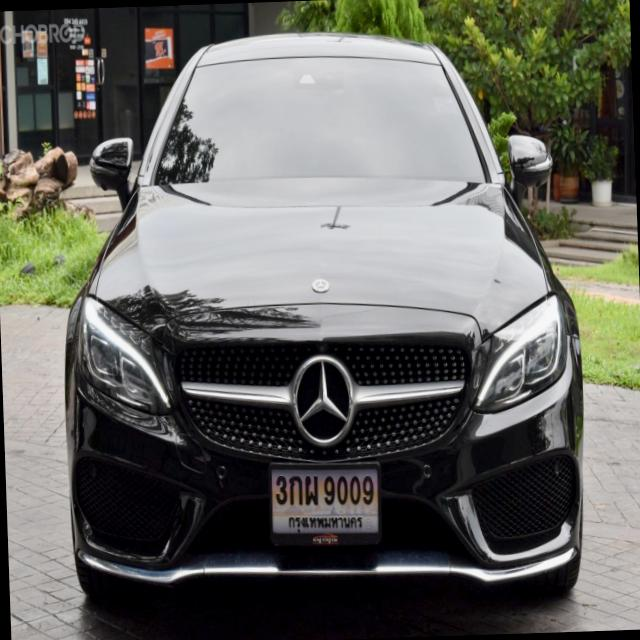license_plate: (268, 456, 382, 543)
